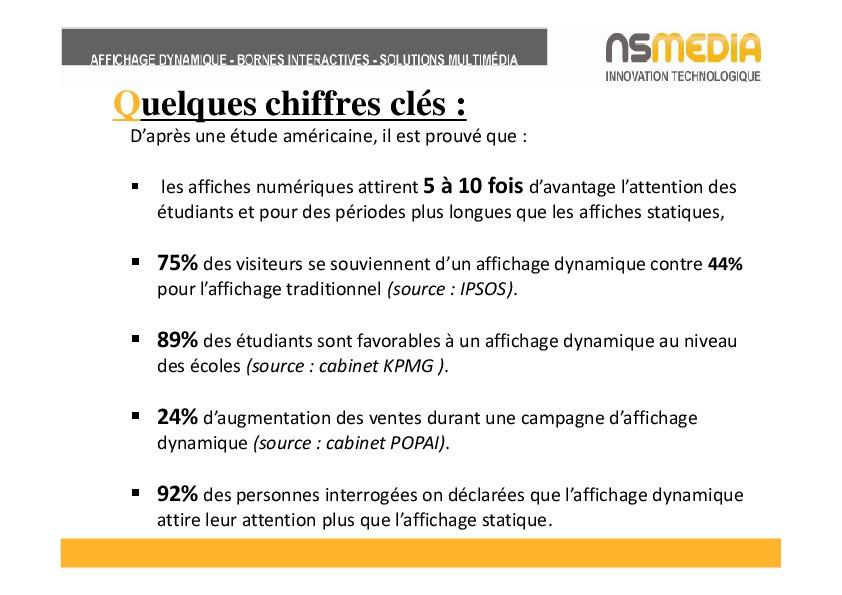paragraph: (105, 126, 783, 537)
subtitle: (81, 28, 774, 94), (102, 73, 482, 133)
